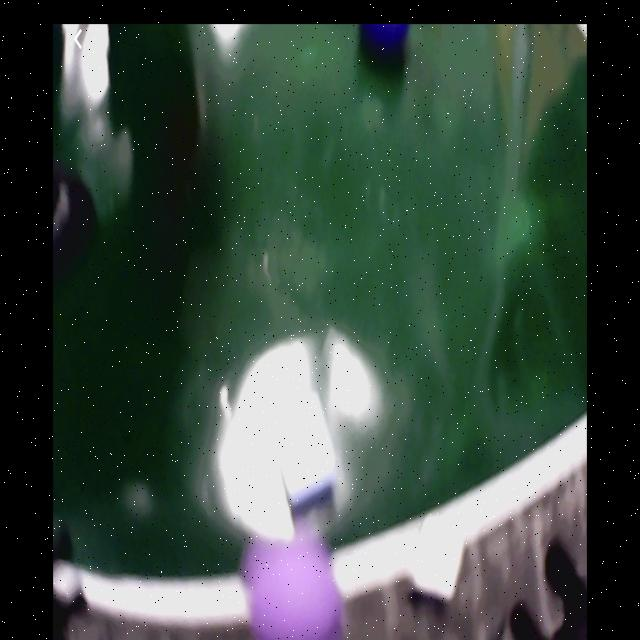ball: (249, 536, 340, 638), (363, 25, 411, 65)
